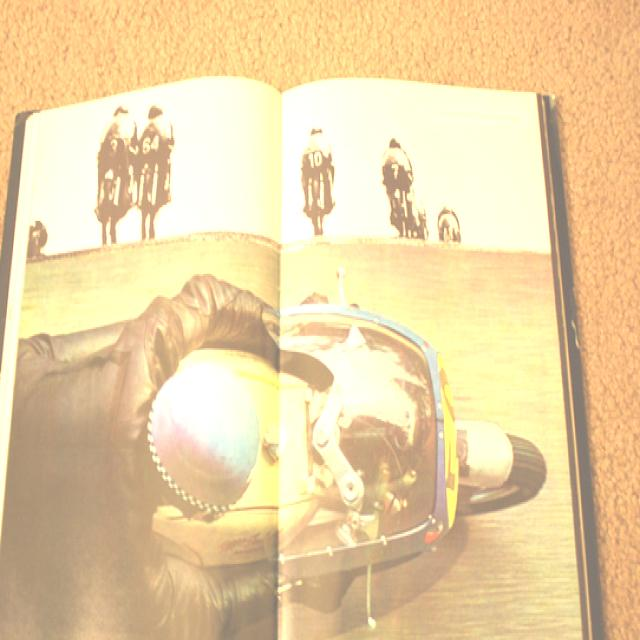Vehicle: (151, 300, 548, 632)
